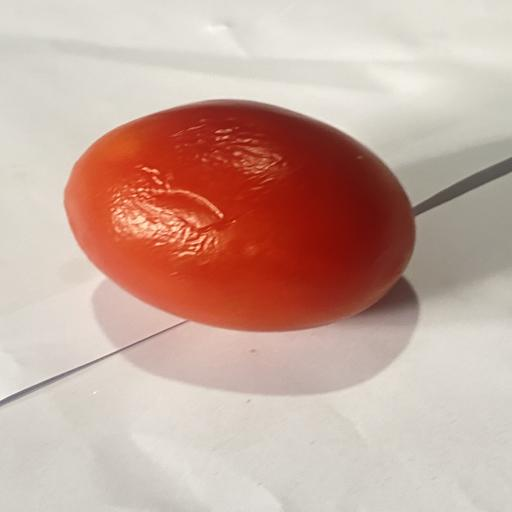spoiled: (65, 100, 415, 331)
